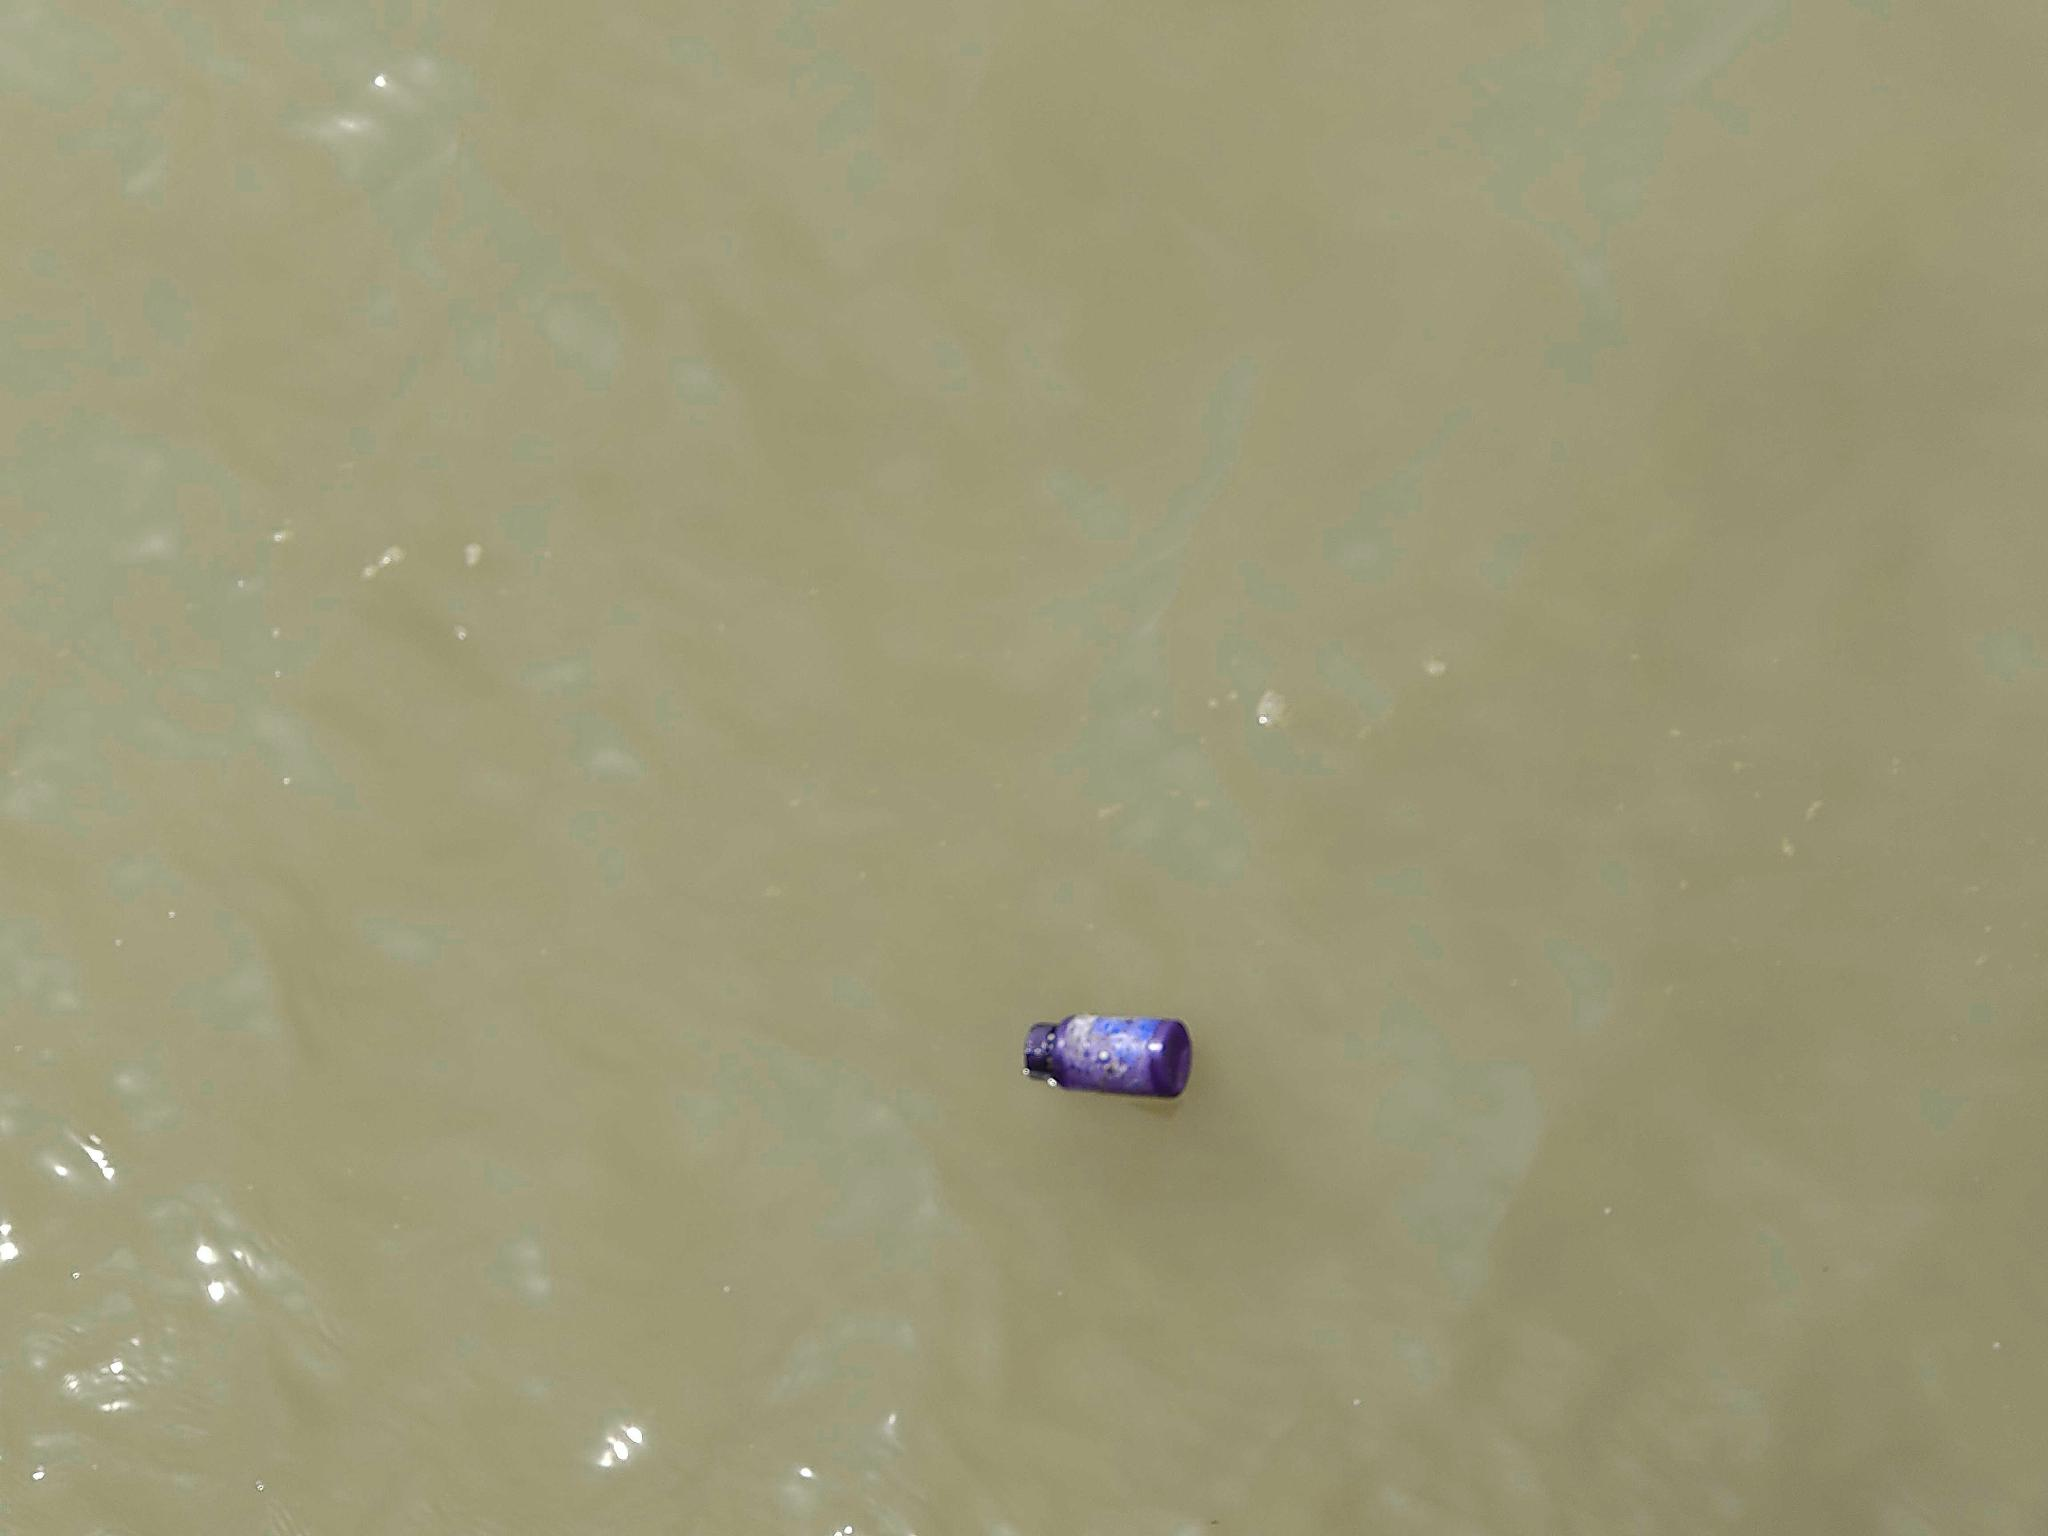Plastic: (1026, 1008, 1192, 1097)
